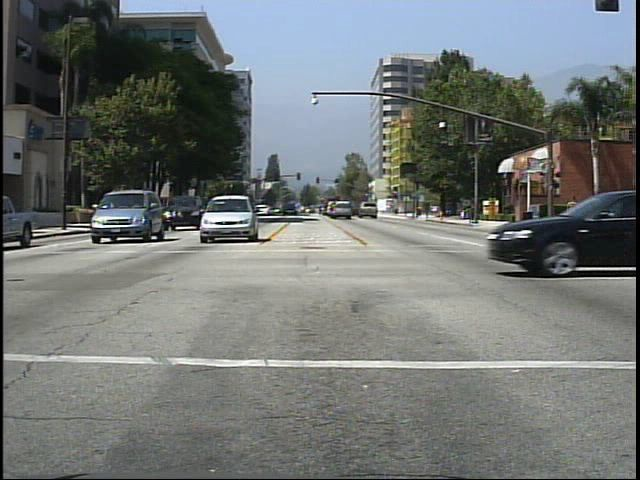person: (565, 192, 590, 243)
